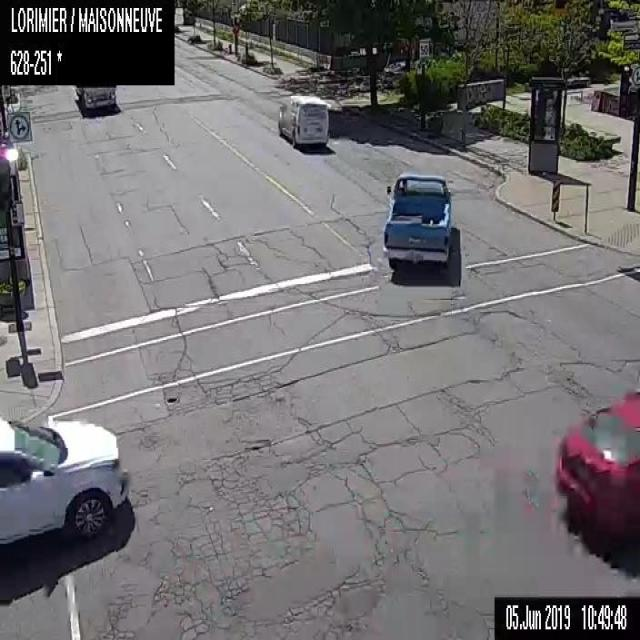vehicle: (0, 414, 129, 550), (552, 386, 639, 534), (381, 170, 452, 270), (277, 92, 327, 149), (73, 83, 117, 109)
